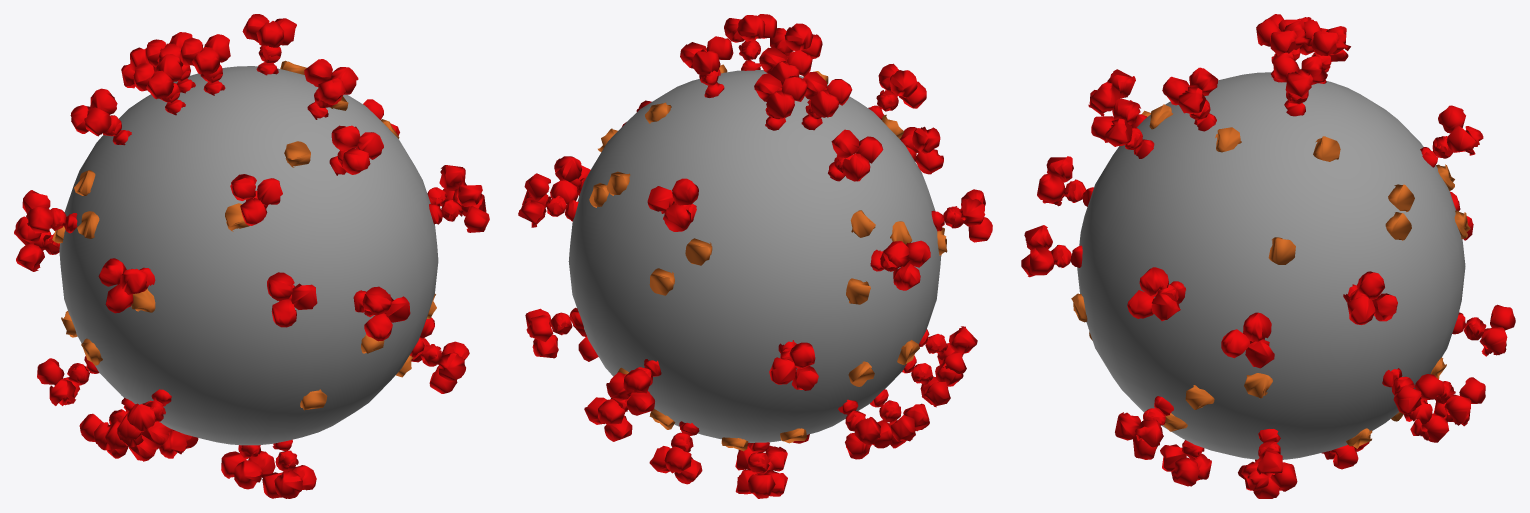
The model's file is LidlVirusbig.fbx.
3 renders of one model, left to right at view 1: azimuth 30°, elevation 25°; view 2: azimuth 150°, elevation 25°; view 3: azimuth 270°, elevation 25°, orthographic. The views are drawn at different scales.
Visible parts, largest first — view 1: Body, Body|Spike|Dupli|12.1, Body|Spike|Dupli|11.1, Body|Spike|Dupli|10.1, Body|Spike|Dupli|18.1, Body|Spike|Dupli|22.1, Body|Spike|Dupli|21.1, Body|Spike|Dupli|23.1, Body|Spike|Dupli|24.1, Body|Spike|Dupli|4.1, Body|Spike|Dupli|13.1, Body|Spike|Dupli|9.1 (+14 smaller); view 2: Body, Body|Spike|Dupli|24.1, Body|Spike|Dupli|23.1, Body|Spike|Dupli|29.1, Body|Spike|Dupli|26.1, Body|Spike|Dupli|27.1, Body|Spike|Dupli|4.1, Body|Spike|Dupli|25.1, Body|Spike|Dupli|0.1, Body|Spike|Dupli|1.1, Body|Spike|Dupli|15.1, Body|Spike|Dupli|22.1 (+17 smaller); view 3: Body, Body|Spike|Dupli|8.1, Body|Spike|Dupli|3.1, Body|Spike|Dupli|10.1, Body|Spike|Dupli|11.1, Body|Spike|Dupli|9.1, Body|Spike|Dupli|4.1, Body|Spike|Dupli|7.1, Body|Spike|Dupli|5.1, Body|Spike|Dupli|6.1, Body|Spike|Dupli|29.1, Body|Spike|Dupli|12.1 (+12 smaller).
Part boxes in pixels (bbox=[...]): Body: bbox=[59, 66, 438, 445]; Body|Spike|Dupli|12.1: bbox=[353, 286, 410, 341]; Body|Spike|Dupli|11.1: bbox=[329, 125, 383, 175]; Body|Spike|Dupli|10.1: bbox=[304, 59, 358, 119]; Body|Spike|Dupli|18.1: bbox=[117, 389, 171, 449]; Body|Spike|Dupli|22.1: bbox=[133, 54, 185, 115]; Body|Spike|Dupli|21.1: bbox=[180, 34, 230, 95]; Body|Spike|Dupli|23.1: bbox=[70, 88, 131, 145]; Body|Spike|Dupli|24.1: bbox=[15, 190, 77, 243]; Body|Spike|Dupli|4.1: bbox=[242, 14, 296, 75]; Body|Spike|Dupli|13.1: bbox=[262, 439, 316, 498]; Body|Spike|Dupli|9.1: bbox=[410, 337, 469, 393]; Body: bbox=[568, 70, 941, 442]; Body|Spike|Dupli|24.1: bbox=[870, 240, 930, 290]; Body|Spike|Dupli|23.1: bbox=[828, 129, 883, 181]; Body|Spike|Dupli|29.1: bbox=[647, 178, 698, 231]; Body|Spike|Dupli|26.1: bbox=[754, 73, 807, 130]; Body|Spike|Dupli|27.1: bbox=[769, 340, 818, 390]; Body|Spike|Dupli|4.1: bbox=[680, 36, 733, 97]; Body|Spike|Dupli|25.1: bbox=[838, 399, 892, 459]; Body|Spike|Dupli|0.1: bbox=[606, 359, 661, 415]; Body|Spike|Dupli|1.1: bbox=[649, 421, 702, 484]; Body|Spike|Dupli|15.1: bbox=[868, 63, 926, 119]; Body|Spike|Dupli|22.1: bbox=[801, 72, 852, 130]; Body: bbox=[1077, 72, 1465, 459]; Body|Spike|Dupli|8.1: bbox=[1127, 267, 1185, 321]; Body|Spike|Dupli|3.1: bbox=[1382, 368, 1444, 423]; Body|Spike|Dupli|10.1: bbox=[1162, 67, 1218, 131]; Body|Spike|Dupli|11.1: bbox=[1091, 98, 1154, 158]; Body|Spike|Dupli|9.1: bbox=[1115, 396, 1173, 459]; Body|Spike|Dupli|4.1: bbox=[1273, 52, 1327, 116]; Body|Spike|Dupli|7.1: bbox=[1241, 429, 1297, 491]; Body|Spike|Dupli|5.1: bbox=[1343, 271, 1397, 324]; Body|Spike|Dupli|6.1: bbox=[1221, 312, 1274, 368]; Body|Spike|Dupli|29.1: bbox=[1420, 105, 1483, 167]; Body|Spike|Dupli|12.1: bbox=[1021, 225, 1082, 277].
Size of the model in its own units: 12434 by 12913 by 12724.
